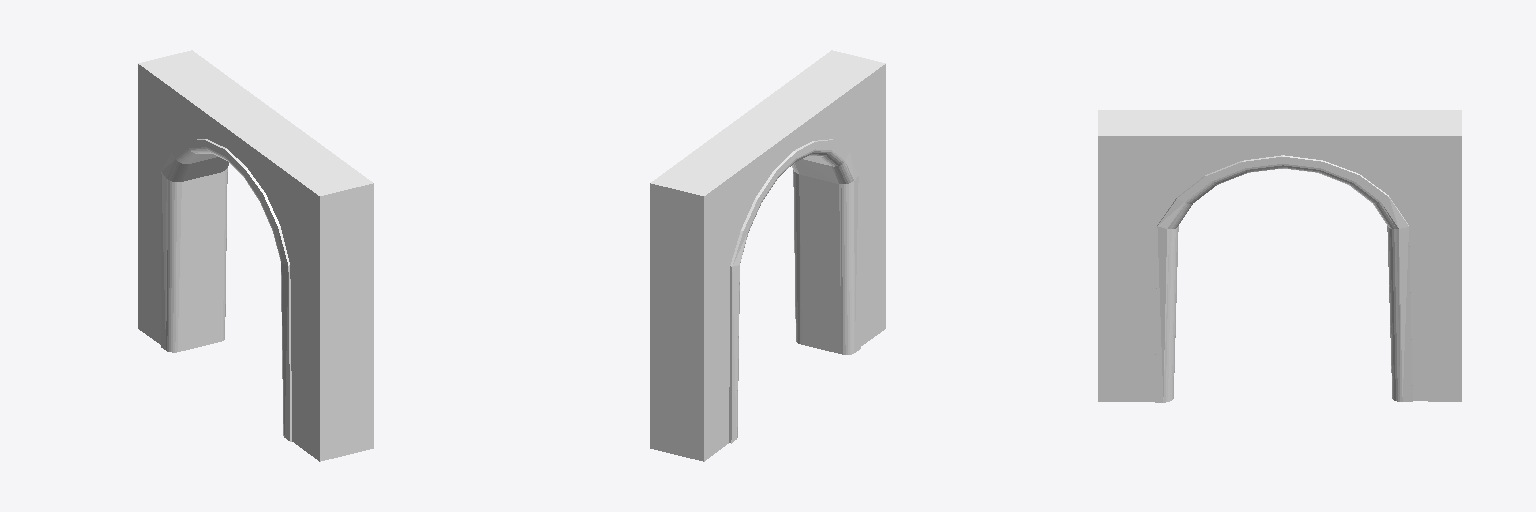
The model's file is Arch_A.obj.
3 renders of one model, left to right at view 1: azimuth 30°, elevation 25°; view 2: azimuth 150°, elevation 25°; view 3: azimuth 270°, elevation 25°, orthographic.
Visible parts, largest first — view 1: Arch_A; view 2: Arch_A; view 3: Arch_A.
Boxes of the visible parts, box(x1,y1,x2,y2) form: Arch_A: box(138, 50, 373, 461); Arch_A: box(650, 50, 885, 461); Arch_A: box(1098, 110, 1461, 402).
Size of the model in its own units: 8.47 by 35.07 by 43.54.